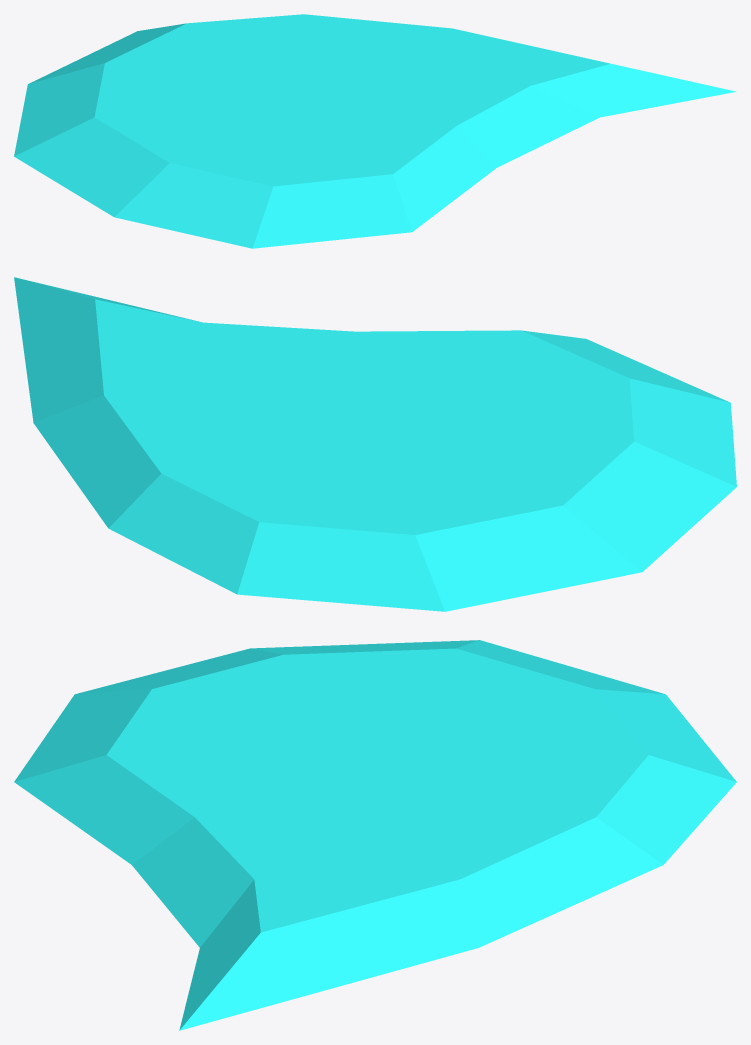
The model's file is Krwawienie.fbx.
3 views of the same model, one above another, from view 1: azimuth 30°, elevation 25°; view 2: azimuth 150°, elevation 25°; view 3: azimuth 270°, elevation 25° (orthographic). The views are drawn at different scales.
Parts seen in each view (by area): view 1: Cylinder; view 2: Cylinder; view 3: Cylinder.
Boxes of the visible parts, x1,y1,x2,y2 form: Cylinder: [14, 14, 736, 248]; Cylinder: [14, 277, 736, 611]; Cylinder: [14, 640, 736, 1030].
Bounding box in the file's own units: 448 × 20 × 350.
